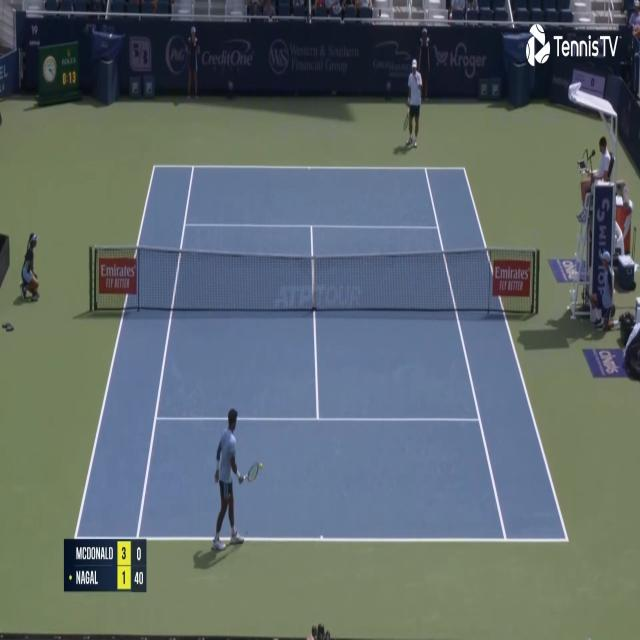tennis-player: (207, 404, 264, 558), (402, 56, 423, 149)
